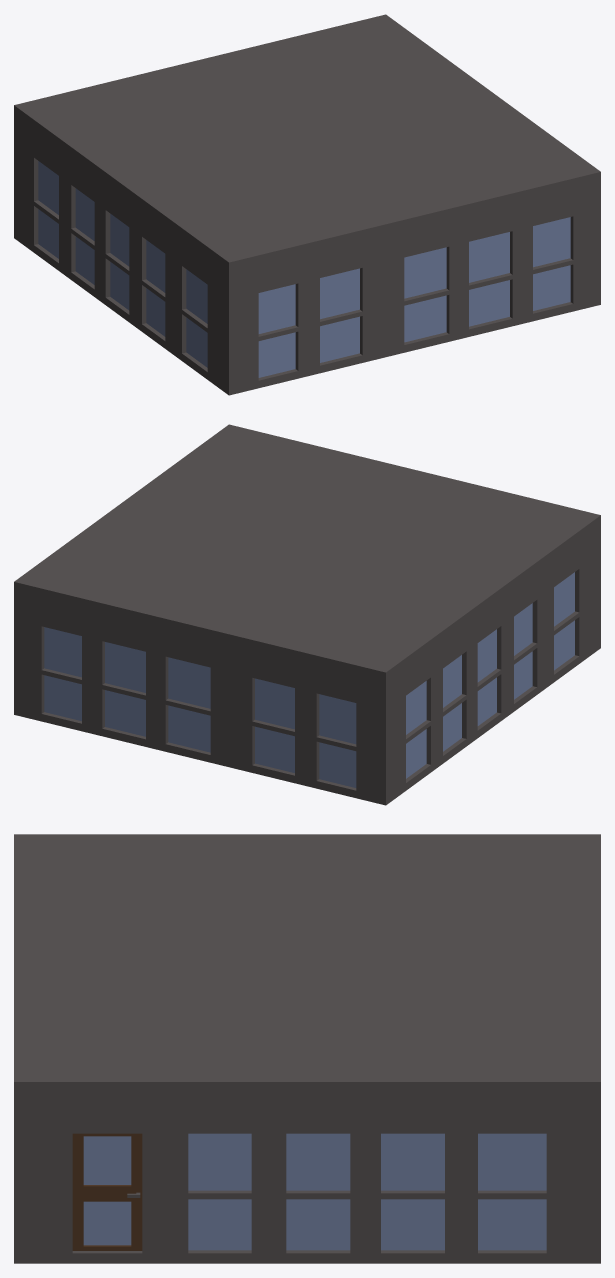
File: Building.fbx
The picture shows the model from 3 angles, top to bottom: view 1: azimuth 30°, elevation 25°; view 2: azimuth 150°, elevation 25°; view 3: azimuth 270°, elevation 25°; orthographic projection. The views are drawn at different scales.
Parts seen in each view (by area): view 1: pCube1; view 2: pCube1; view 3: pCube1.
Part boxes in pixels (left/top/right/bottom): pCube1: left=14, top=14, right=600, bottom=395; pCube1: left=14, top=424, right=600, bottom=805; pCube1: left=14, top=834, right=600, bottom=1263.
Bounding box in the file's own units: 9.99 × 3.41 × 10.
